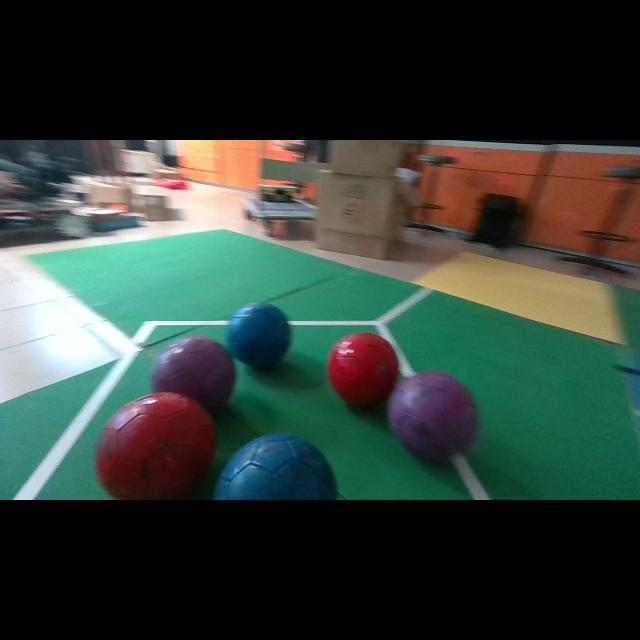B: (215, 434, 338, 500), (228, 302, 290, 369)
P: (388, 371, 478, 459), (152, 335, 235, 410)
R: (96, 392, 215, 499), (326, 332, 399, 407)
